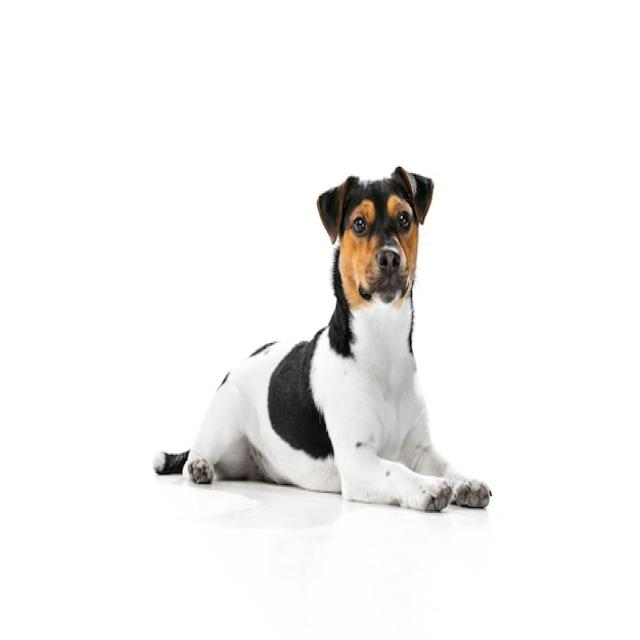Dog: (154, 165, 494, 513)
